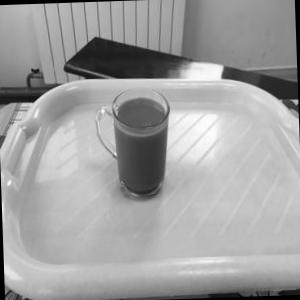coffee: (86, 77, 182, 208)
